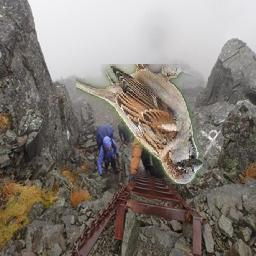Sparrow: (77, 64, 204, 184)
